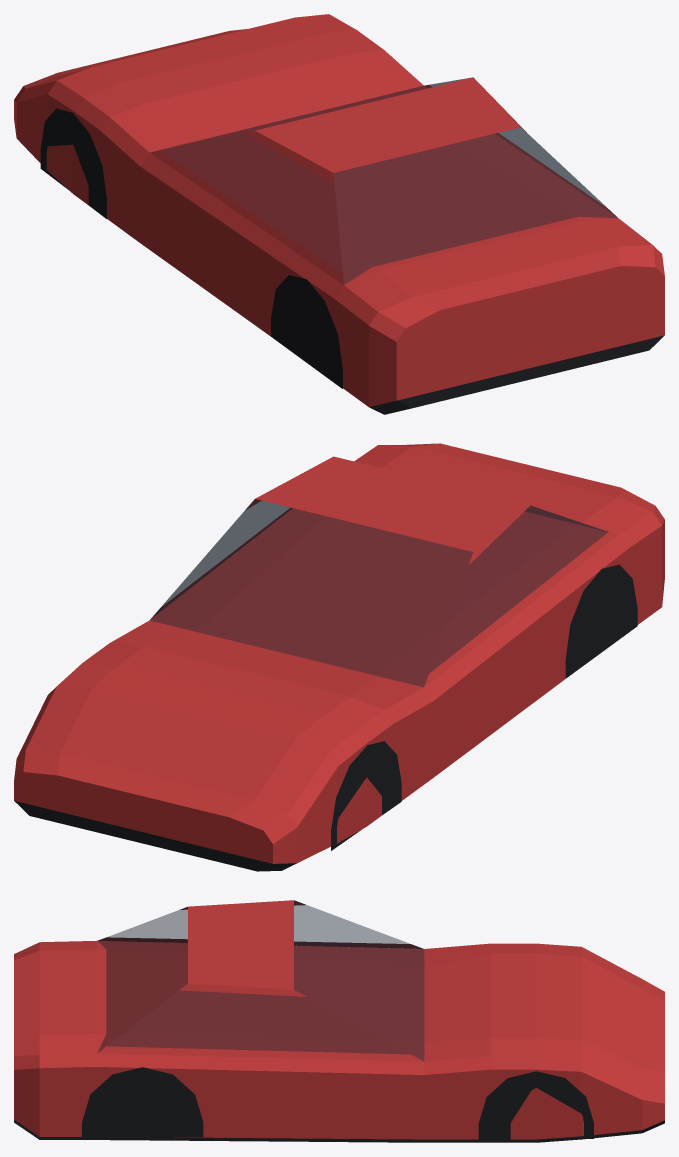
The model's file is sports_lod.glb.
The picture shows the model from 3 angles, top to bottom: view 1: azimuth 30°, elevation 25°; view 2: azimuth 150°, elevation 25°; view 3: azimuth 270°, elevation 25°; orthographic projection. The views are drawn at different scales.
Parts seen in each view (by area): view 1: Body; view 2: Body; view 3: Body.
Boxes of the visible parts, <box> form: Body: <box>14,14,664,414</box>; Body: <box>14,443,664,871</box>; Body: <box>14,900,664,1142</box>.
Bounding box in the file's own units: 1.89 × 1.05 × 4.3.
